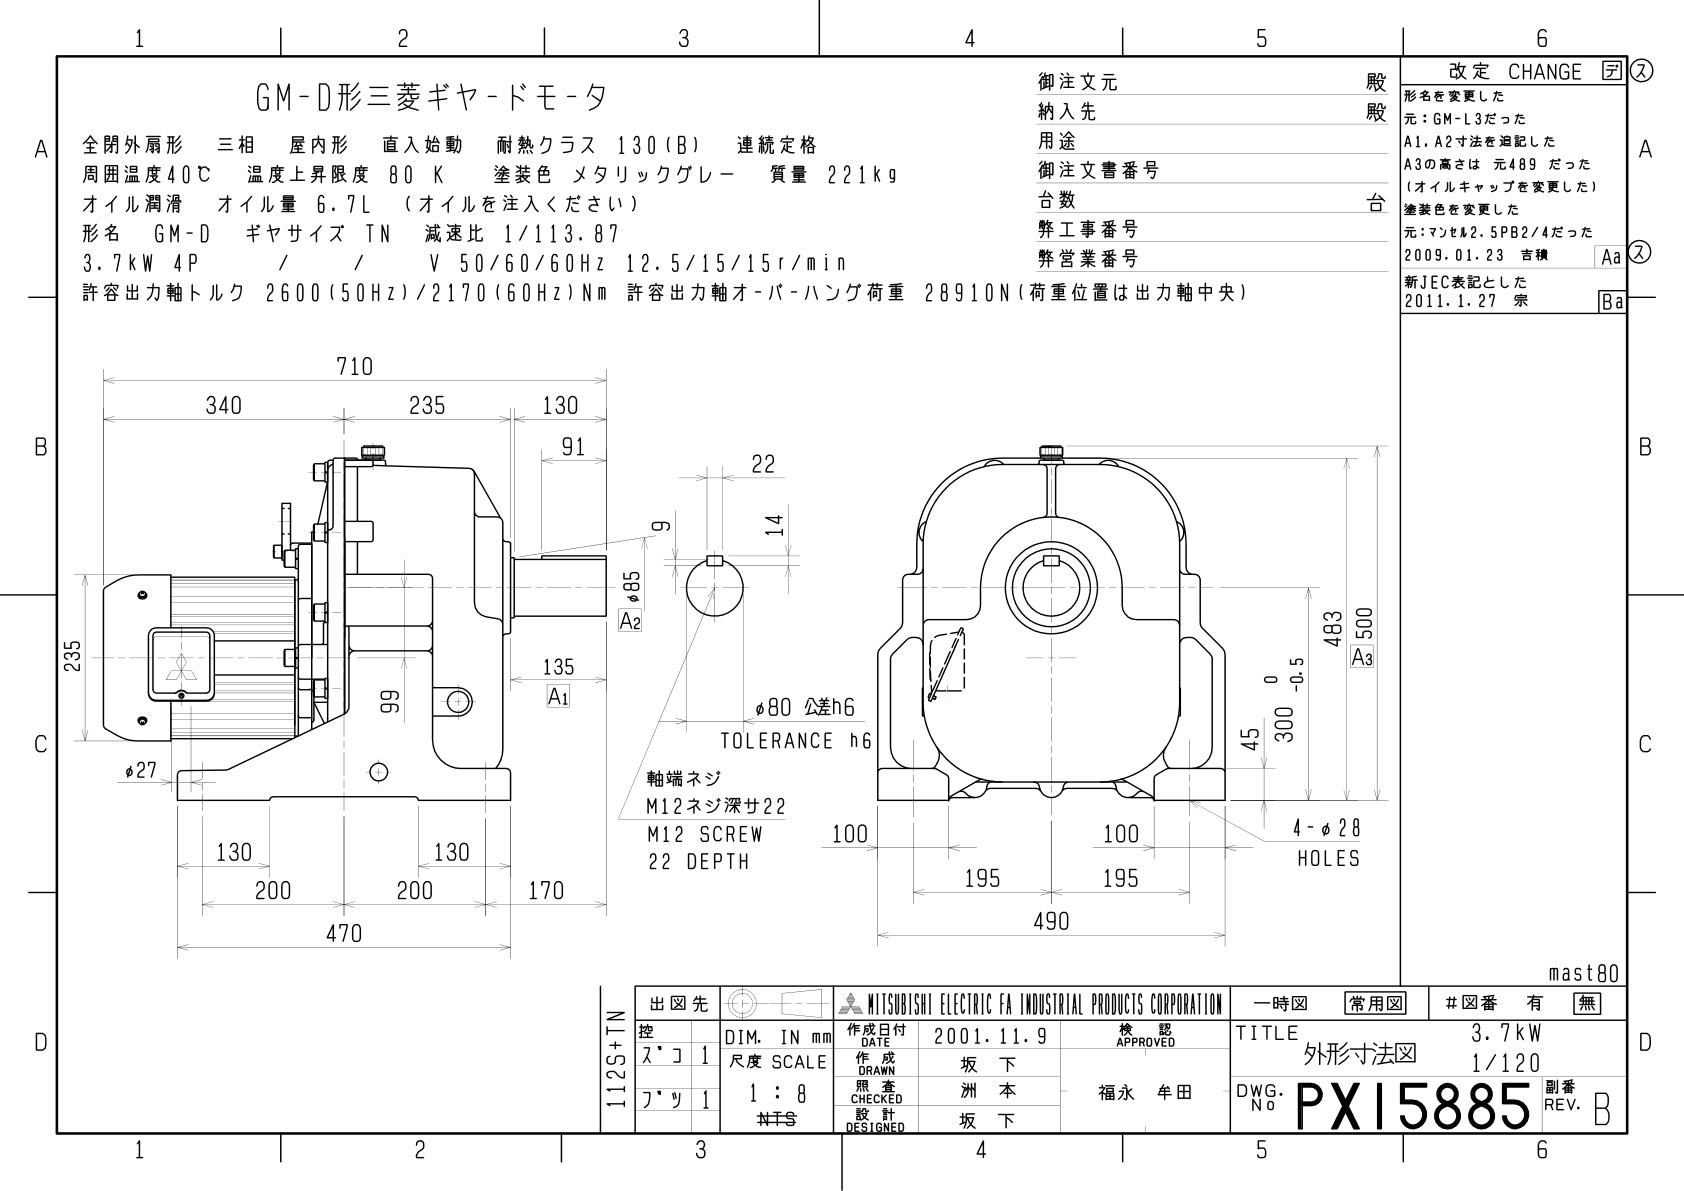GM_D_屋内＿三相_脚: (63, 316, 1397, 978)
